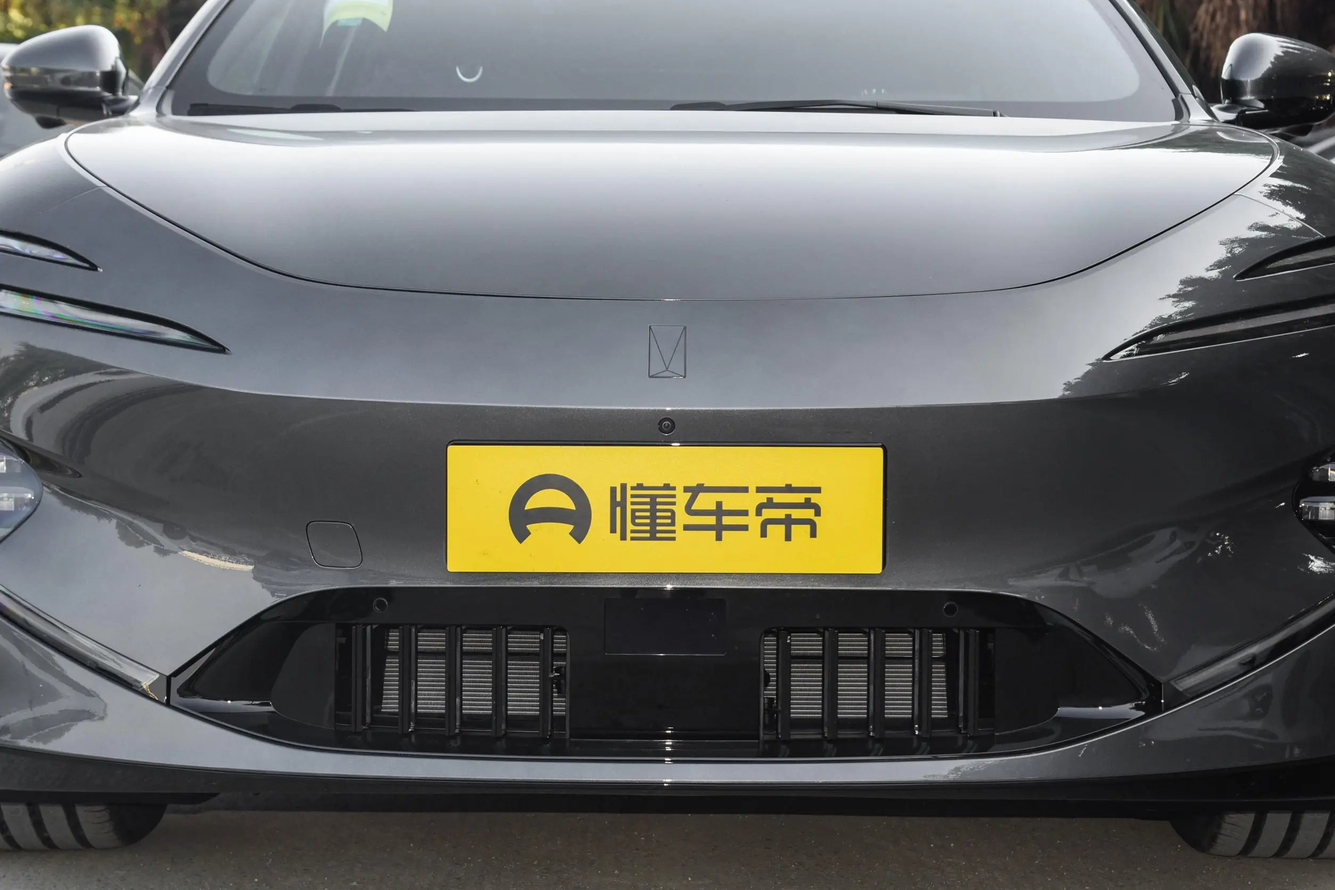AVATR: (649, 325, 685, 378)
